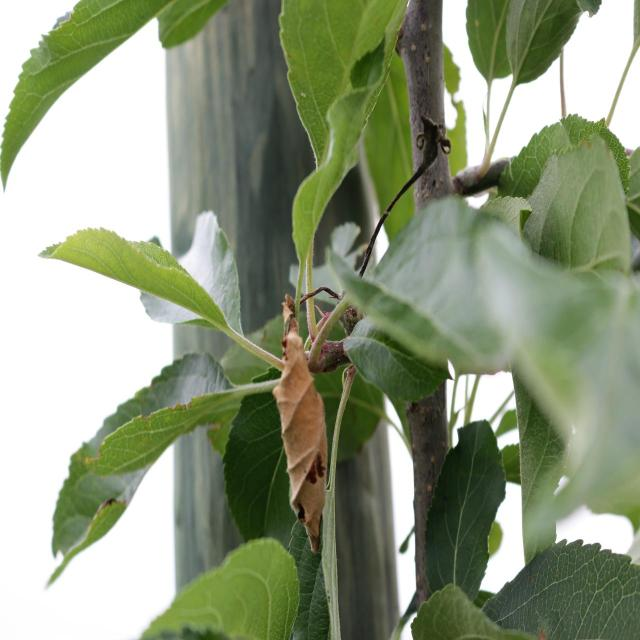-FireBlight-: (269, 295, 335, 554)
